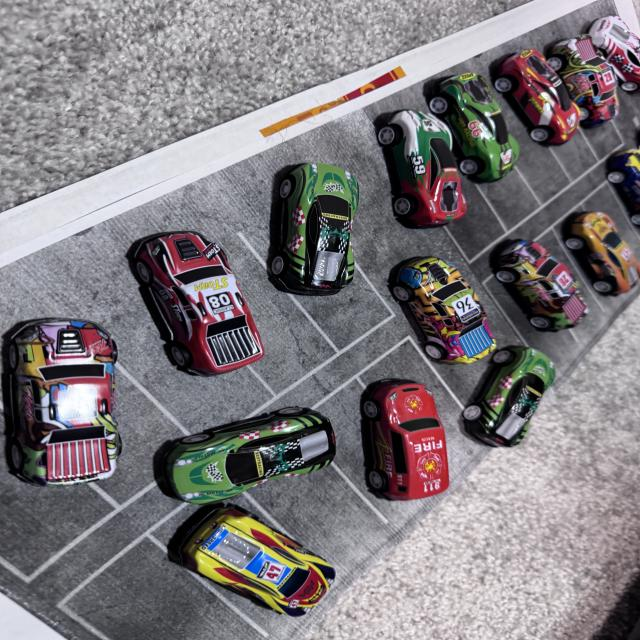Car: (120, 231, 320, 437), (7, 287, 118, 577), (195, 481, 397, 598), (321, 345, 455, 518), (272, 154, 391, 316), (470, 29, 591, 147), (375, 114, 482, 238), (415, 67, 531, 177), (387, 269, 502, 371), (456, 243, 590, 317), (438, 355, 549, 438), (559, 0, 639, 115), (173, 403, 314, 462), (557, 202, 640, 292), (540, 28, 622, 108)
